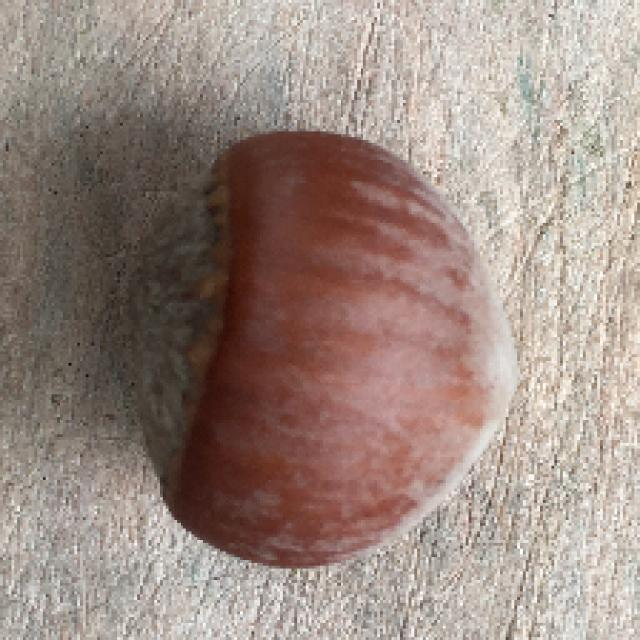qualityHazelnut: (110, 126, 526, 567)
